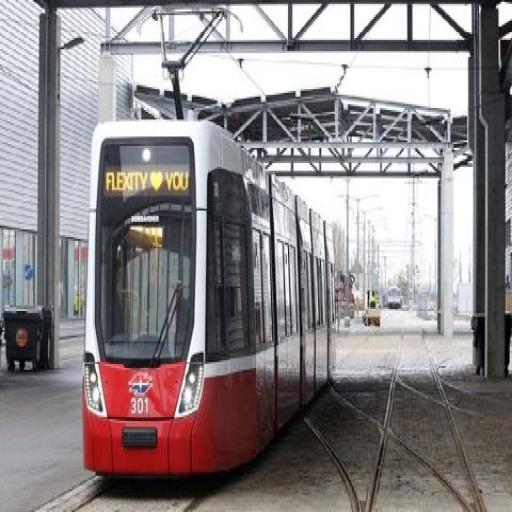Flexity: (80, 114, 340, 481)
